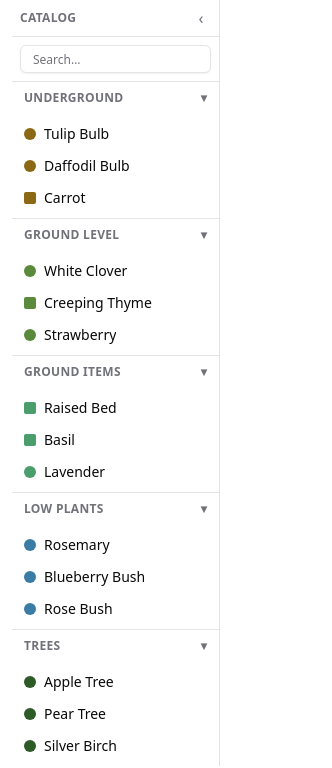
Test case: Sidebar › catalog search › filters by description: typing "pollinators" shows Lavender
Type "pollinators" into the search field with test id "catalog-search" at (116, 59), box [20, 45, 211, 73]
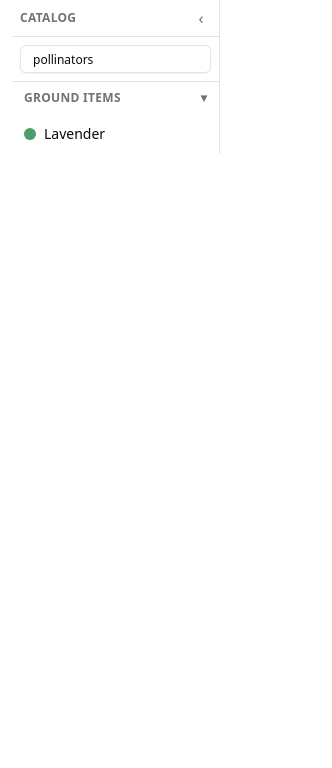
Check: the text "Lavender" is shown, box [44, 124, 105, 144]
Check: the text "Apple Tree" is gone
